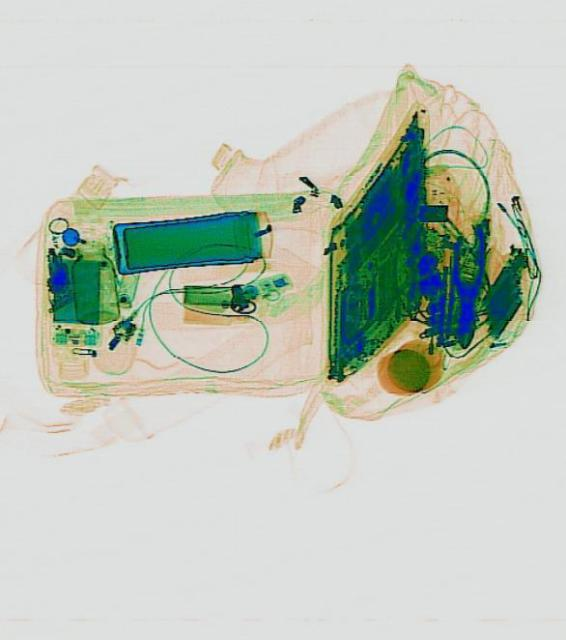Pliers: (443, 224, 486, 348)
